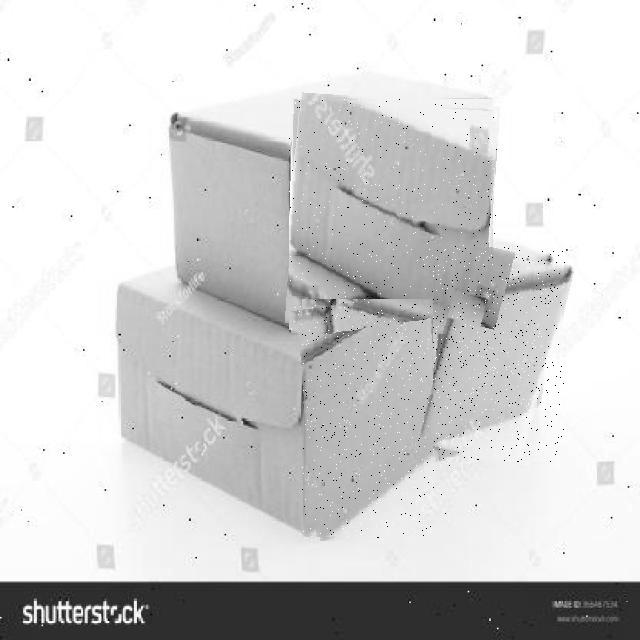BoxFace: (289, 96, 497, 333), (302, 299, 450, 538), (433, 246, 565, 462)
